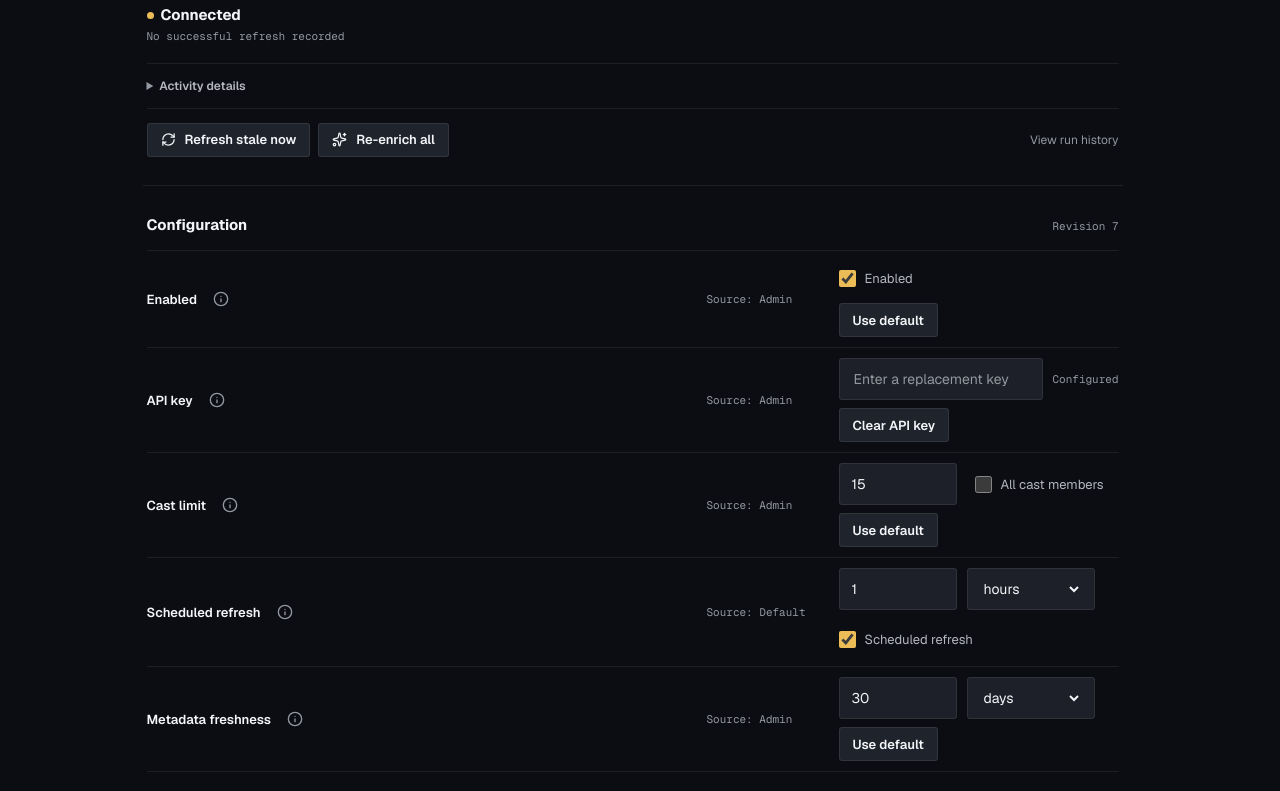
Scenario: TMDB Admin settings › confirms aggressive settings, then saves the same whole draft
Replace the text in the number field named "Metadata freshness" with "0.5" at (898, 698), box [852,689,944,707]
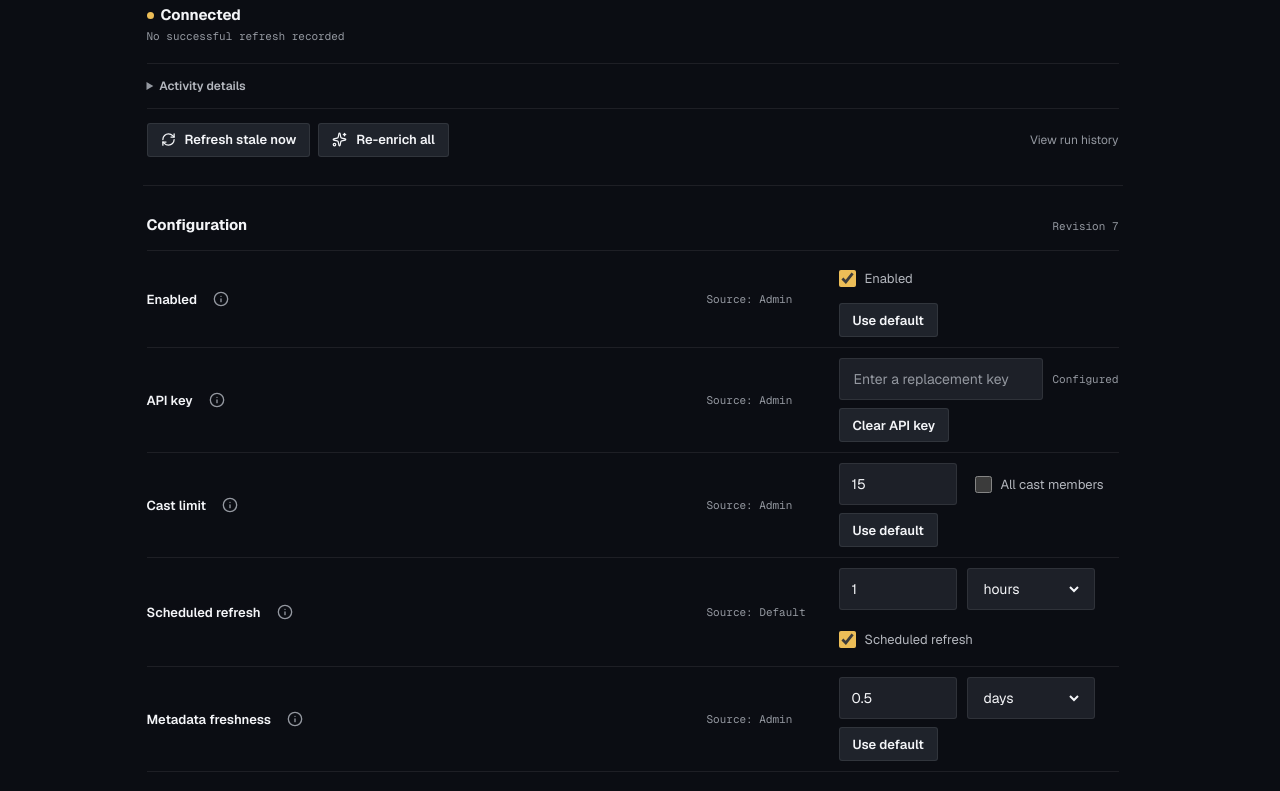
Select "hours" in the dropdown named "Metadata freshness unit" at (1030, 698), box [980,688,1082,708]
(page scrolled)
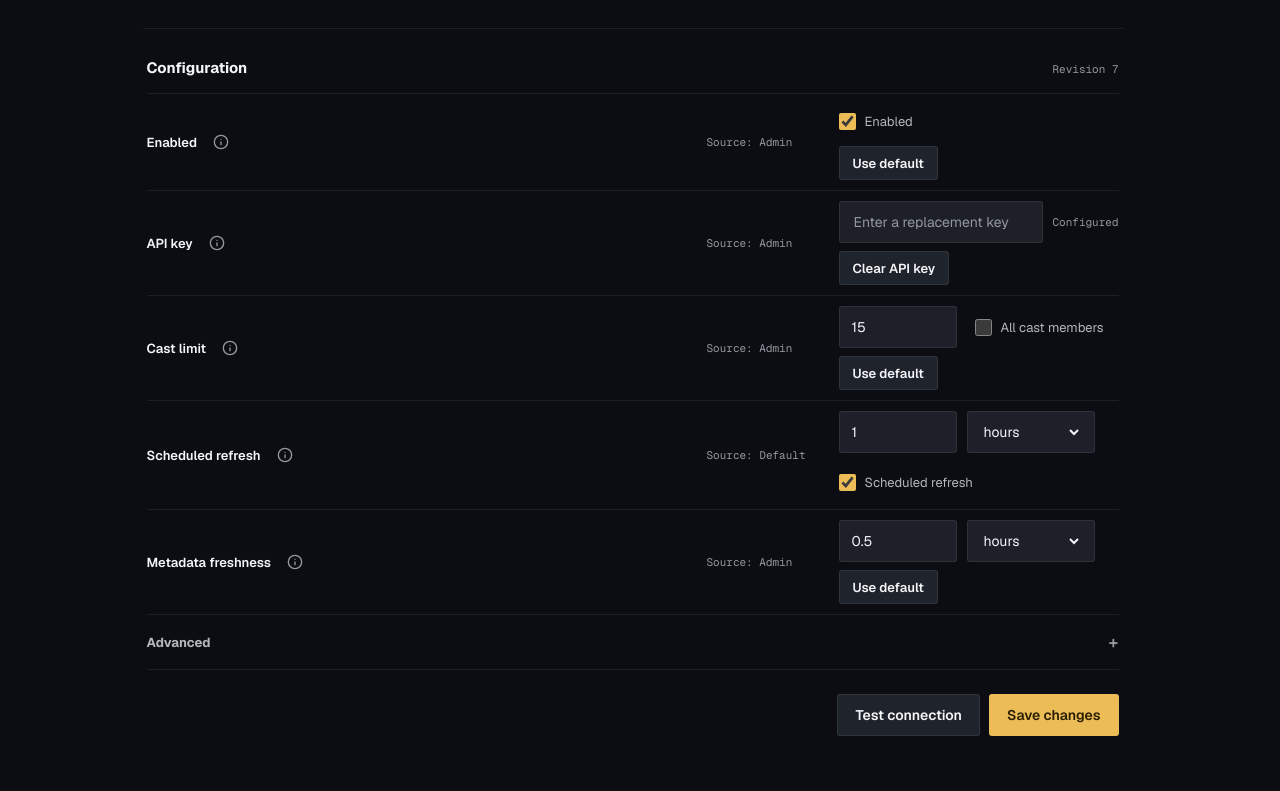
Click the button "Save changes" at (1054, 715), box [989,694,1118,736]
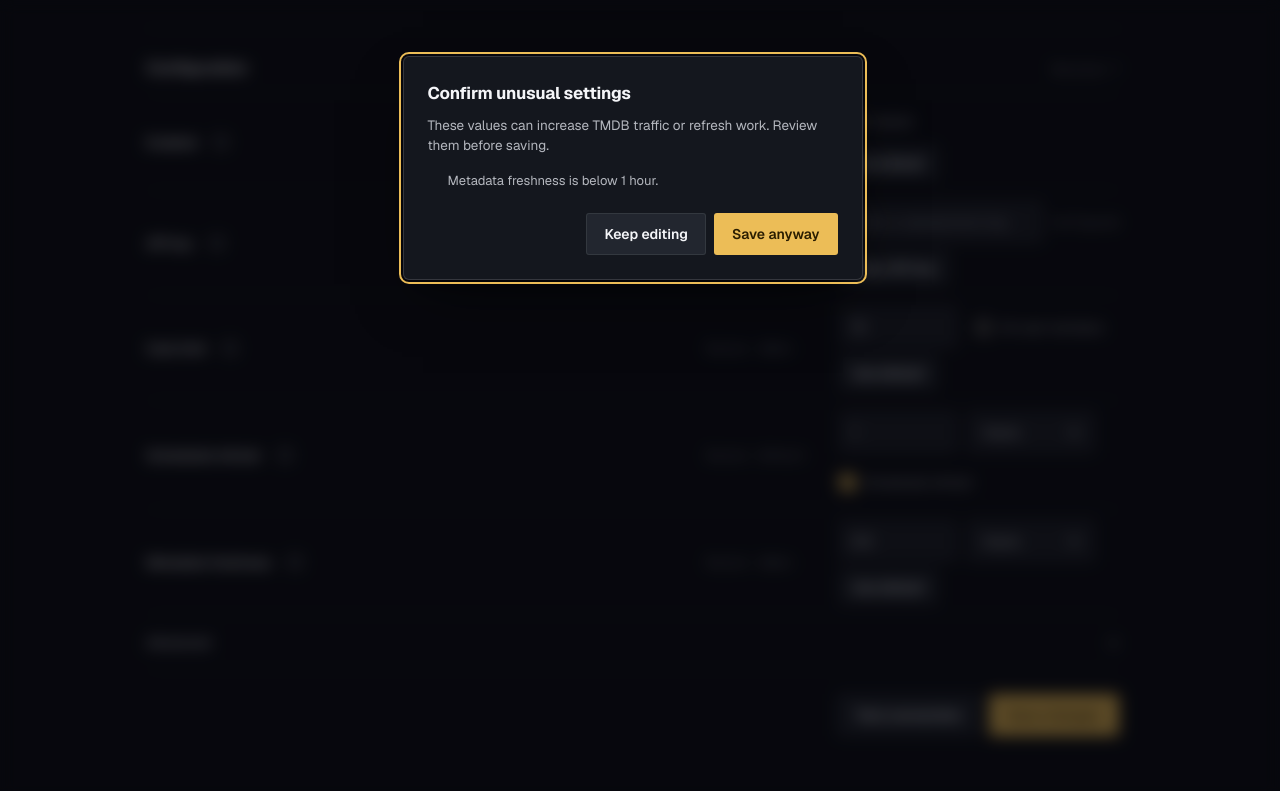
Expected: the list item "Metadata freshness is below 1 hour." is shown, [448,172,658,189]
Click the button "Save anyway" at (776, 234), box [714,213,838,255]
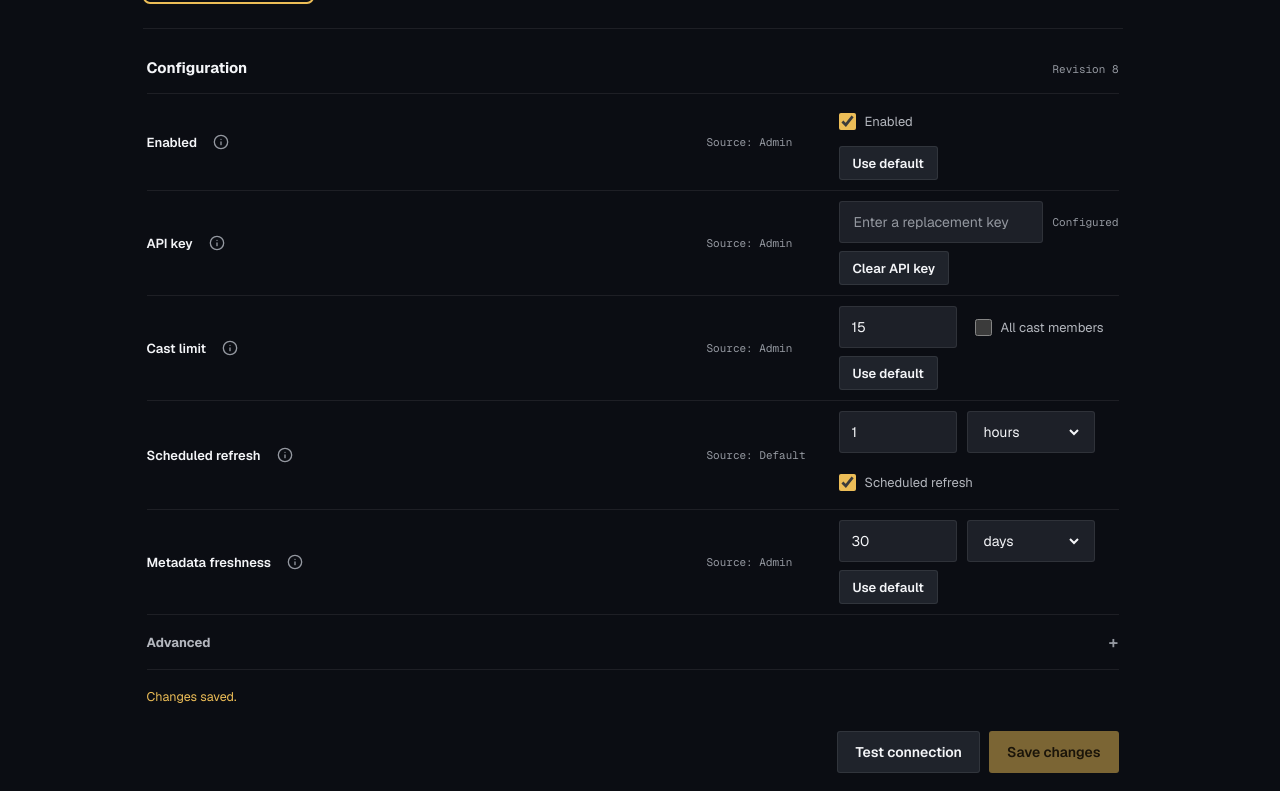
Expected: the text "Revision 8" is shown, [1052,62,1118,77]
Expected: the text "Changes saved." is shown, [146,688,237,705]
